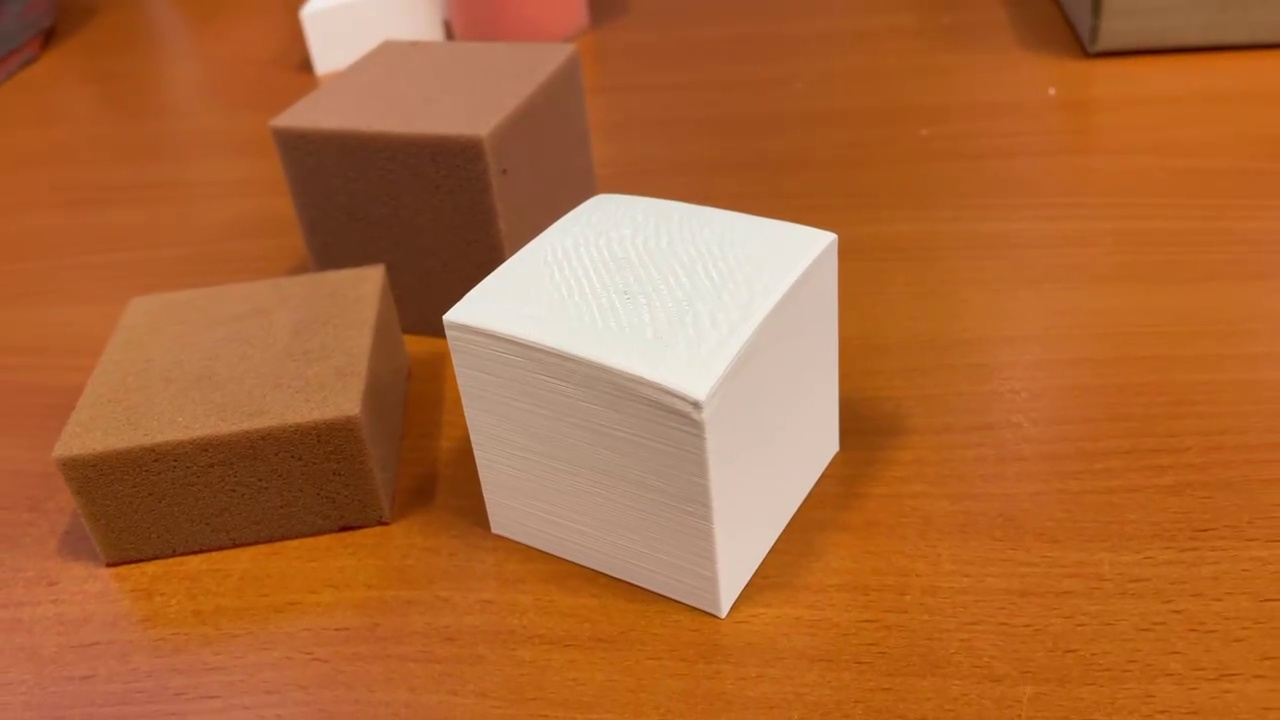Cube: (435, 188, 845, 618), (267, 36, 602, 346)
Cube_short: (46, 260, 421, 572)
